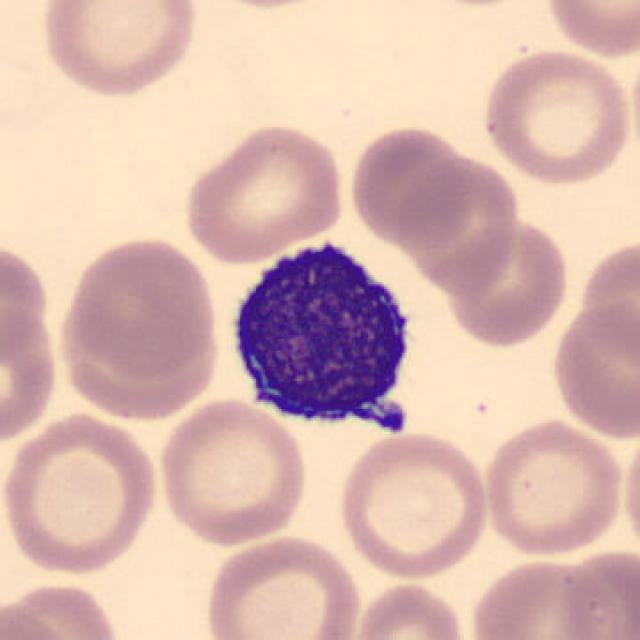Lymphocyte: (220, 227, 427, 439)
RBC: (0, 409, 162, 577), (55, 268, 229, 422), (180, 118, 350, 266), (334, 428, 492, 582), (153, 395, 311, 548), (58, 233, 220, 381), (476, 44, 633, 187), (478, 414, 628, 559), (441, 212, 572, 349), (394, 157, 520, 297), (201, 532, 364, 640), (35, 0, 202, 100), (346, 122, 474, 250), (548, 294, 638, 441), (465, 553, 615, 640), (570, 234, 640, 377), (0, 296, 62, 448), (0, 234, 55, 388), (552, 546, 638, 640), (2, 578, 124, 640), (349, 578, 471, 640), (540, 0, 638, 62), (0, 597, 76, 640), (620, 421, 640, 559), (183, 0, 345, 12), (414, 0, 539, 11)
